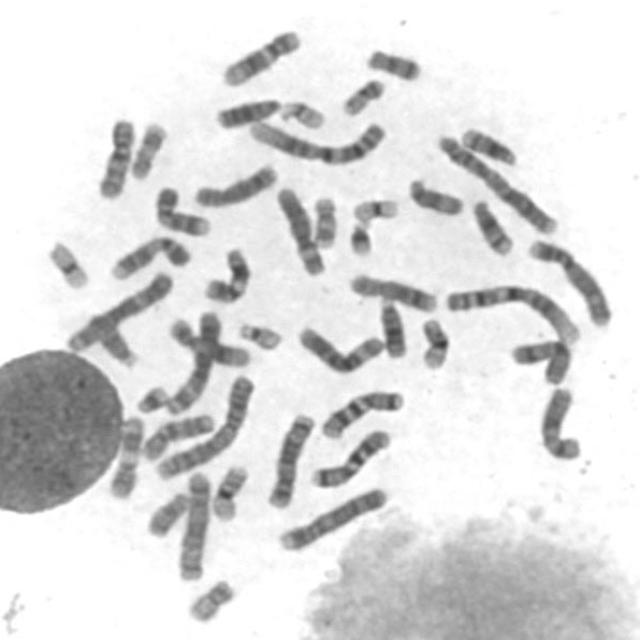A1: (438, 276, 585, 345), (242, 110, 390, 166)
A2: (428, 125, 560, 236), (148, 368, 258, 482)
A3: (58, 264, 176, 354), (159, 304, 224, 417)
B4: (521, 230, 615, 329), (271, 479, 392, 554)
B5: (260, 406, 318, 510), (170, 465, 213, 583)
C10: (134, 406, 217, 462), (89, 109, 138, 202)
C11: (102, 409, 147, 502), (196, 240, 254, 306)
C12: (215, 22, 304, 88), (161, 310, 252, 370)
C6: (270, 178, 328, 278), (290, 318, 387, 376)
C7: (303, 422, 394, 490), (314, 382, 407, 442)
C8: (187, 156, 281, 209), (343, 266, 440, 313)
C9: (102, 228, 193, 282), (147, 180, 213, 238)
D13: (207, 90, 285, 131), (373, 290, 409, 360)
D14: (464, 190, 516, 258), (453, 119, 521, 168)
D15: (81, 306, 140, 371), (402, 170, 467, 218)
E16: (204, 458, 251, 524), (412, 310, 453, 372)
E17: (124, 115, 170, 182), (306, 188, 340, 250)
E18: (140, 486, 193, 540), (360, 41, 424, 82)
F19: (40, 233, 92, 291), (346, 191, 402, 224)
F20: (180, 572, 238, 625), (335, 70, 389, 118)
G21: (129, 377, 171, 416), (341, 214, 376, 258)
G22: (272, 93, 328, 131), (231, 314, 286, 352)
X: (532, 380, 585, 462), (502, 332, 574, 386)
